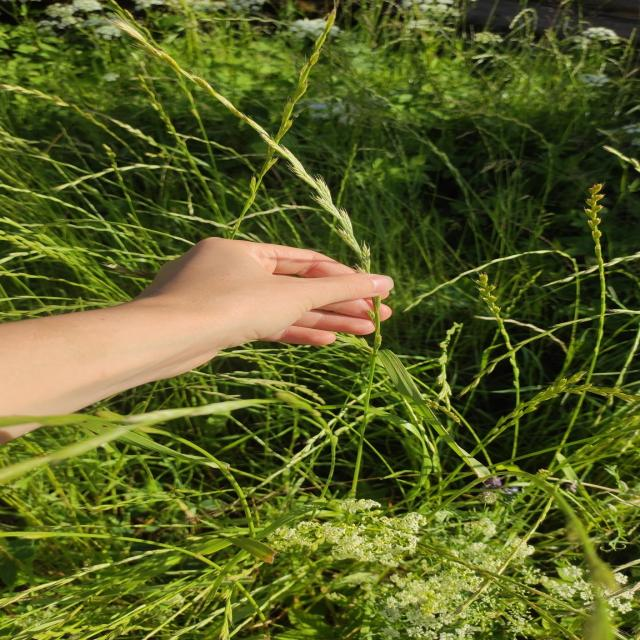Lolium: (3, 4, 636, 637)
